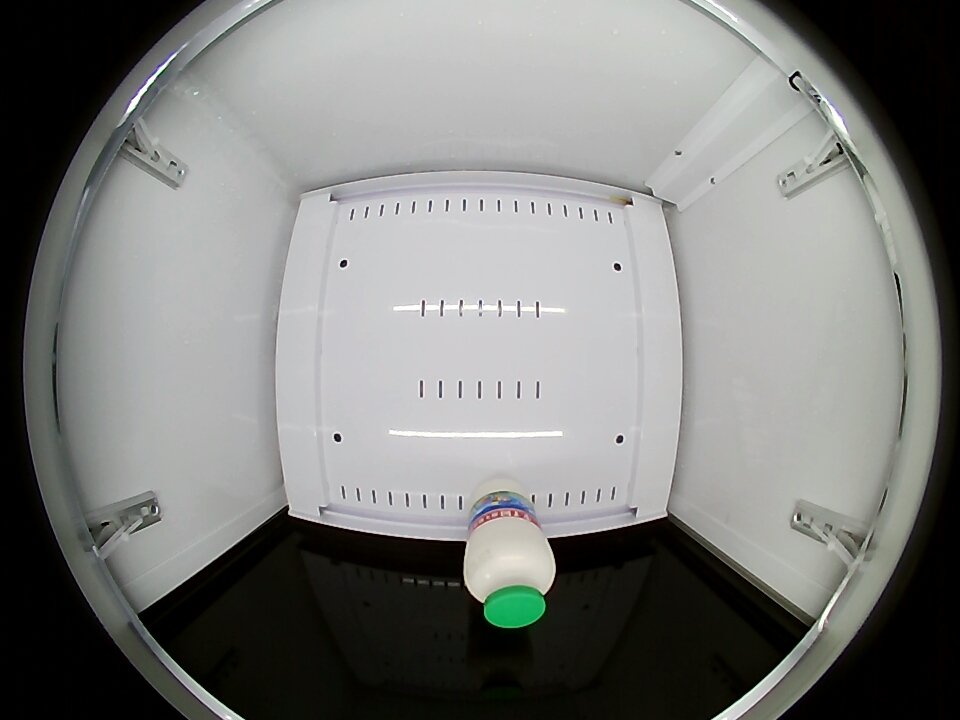liziyuan: (463, 515, 556, 629)
